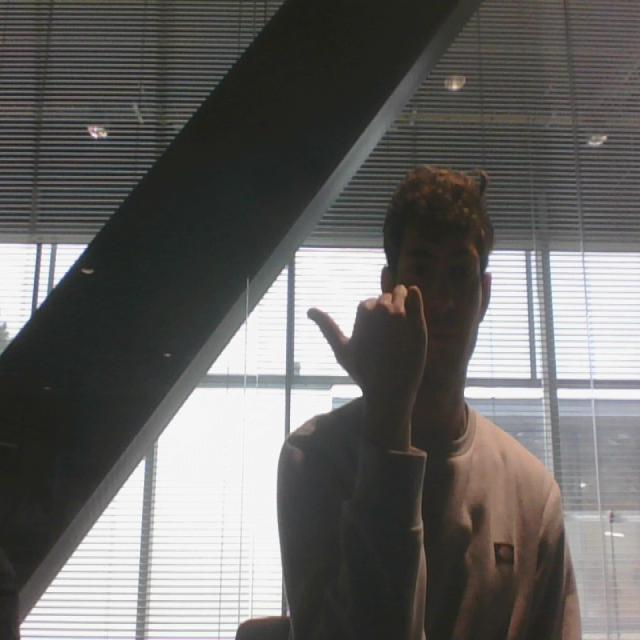left: (302, 274, 429, 426)
